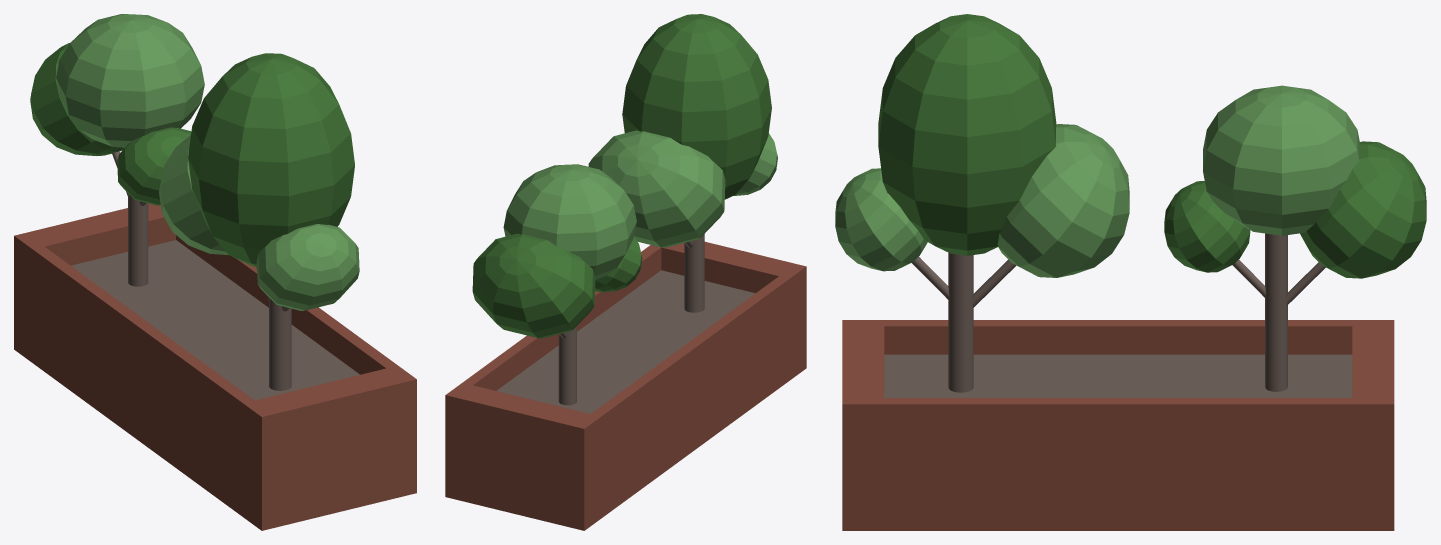
Rendered from plants.fbx.
The picture shows the model from 3 angles, left to right: view 1: azimuth 30°, elevation 25°; view 2: azimuth 150°, elevation 25°; view 3: azimuth 270°, elevation 25°; orthographic projection. The views are drawn at different scales.
Parts seen in each view (by area): view 1: pCube20, pSphere1, pSphere4; view 2: pCube20, pSphere1, pSphere4; view 3: pCube20, pSphere1, pSphere4.
Boxes of the visible parts, x1=… form: pCube20: x1=14, y1=203, x2=416, y2=530; pSphere1: x1=159, y1=53, x2=359, y2=390; pSphere4: x1=30, y1=14, x2=204, y2=286; pCube20: x1=445, y1=241, x2=806, y2=530; pSphere1: x1=588, y1=14, x2=777, y2=312; pSphere4: x1=472, y1=164, x2=642, y2=405; pCube20: x1=842, y1=320, x2=1394, y2=530; pSphere1: x1=835, y1=14, x2=1129, y2=392; pSphere4: x1=1164, y1=85, x2=1426, y2=391.
Size of the model in its own units: 2.01 by 4.93 by 5.72.
